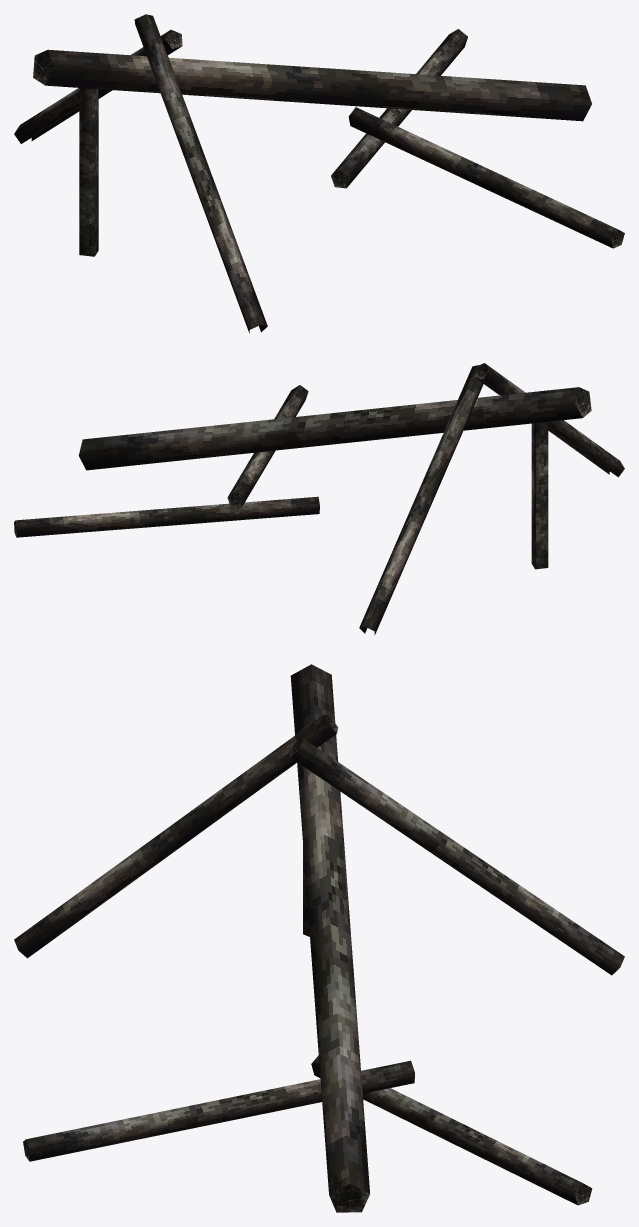
The model's file is Environment - Prop - Wood Beams 02 - Damaged - PMWdSwHrs_d.glb.
3 views of the same model, one above another, from view 1: azimuth 30°, elevation 25°; view 2: azimuth 150°, elevation 25°; view 3: azimuth 270°, elevation 25° (orthographic). The views are drawn at different scales.
Visible parts, largest first — view 1: PMWDSWHRS_D; view 2: PMWDSWHRS_D; view 3: PMWDSWHRS_D.
Boxes of the visible parts, x1=… form: PMWDSWHRS_D: x1=14, y1=14, x2=624, y2=333; PMWDSWHRS_D: x1=14, y1=363, x2=624, y2=635; PMWDSWHRS_D: x1=14, y1=664, x2=624, y2=1212.
Bounding box in the file's own units: 19.68 × 7.41 × 16.14.
Materials: 1 (1 with a texture image).
